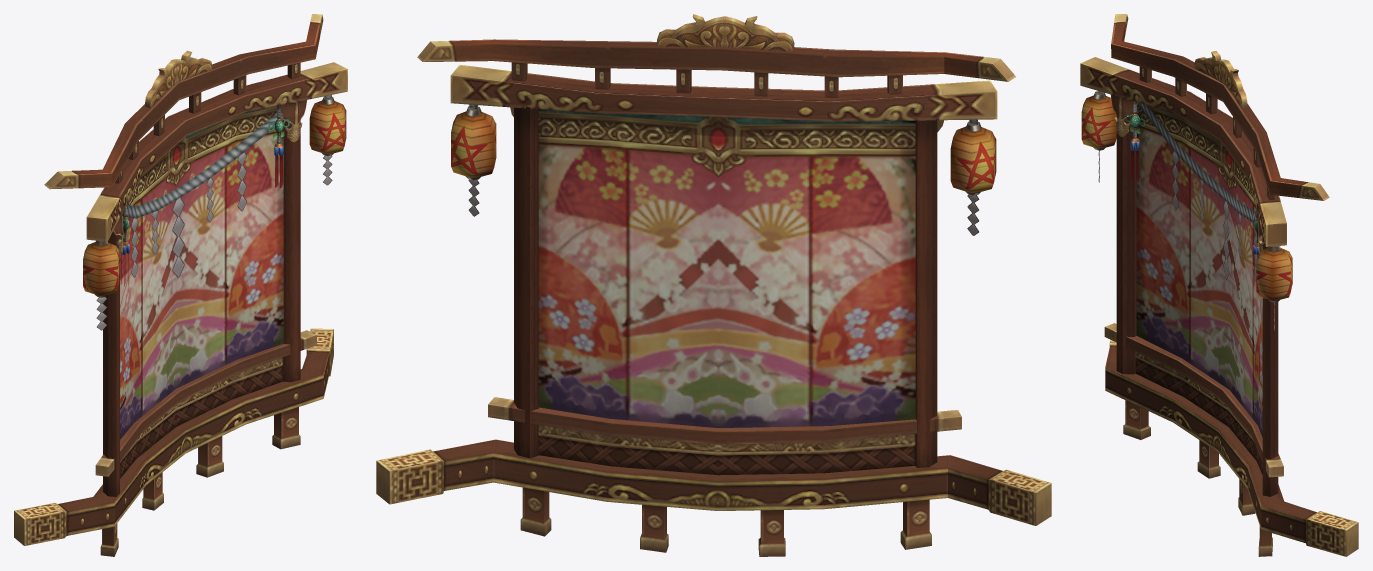
File: tqfb_pingfeng01.FBX
The picture shows the model from 3 angles, left to right: view 1: azimuth 30°, elevation 25°; view 2: azimuth 150°, elevation 25°; view 3: azimuth 270°, elevation 25°; orthographic projection. The views are drawn at different scales.
Parts seen in each view (by area): view 1: tqfb_pingfeng01, tqfb_pingfeng03, tqfb_pingfeng04, tqfb_pingfeng02; view 2: tqfb_pingfeng01, tqfb_pingfeng03; view 3: tqfb_pingfeng01, tqfb_pingfeng03, tqfb_pingfeng04, tqfb_pingfeng02.
Part boxes in pixels (x1,y1,x2,y2): tqfb_pingfeng01: (14, 62, 347, 556); tqfb_pingfeng03: (44, 14, 323, 189); tqfb_pingfeng04: (120, 105, 289, 286); tqfb_pingfeng02: (96, 152, 332, 330); tqfb_pingfeng01: (376, 65, 1051, 556); tqfb_pingfeng03: (417, 14, 1015, 98); tqfb_pingfeng01: (1080, 57, 1358, 556); tqfb_pingfeng03: (1111, 14, 1329, 200); tqfb_pingfeng04: (1125, 101, 1258, 285); tqfb_pingfeng02: (1098, 150, 1274, 330).
Size of the model in its own units: 14.12 by 13.63 by 8.06.
